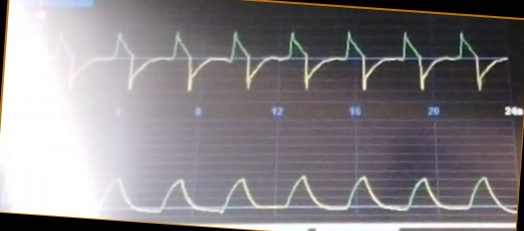Normal Flow: (50, 21, 506, 98)
Normal Volume: (90, 159, 515, 215)
